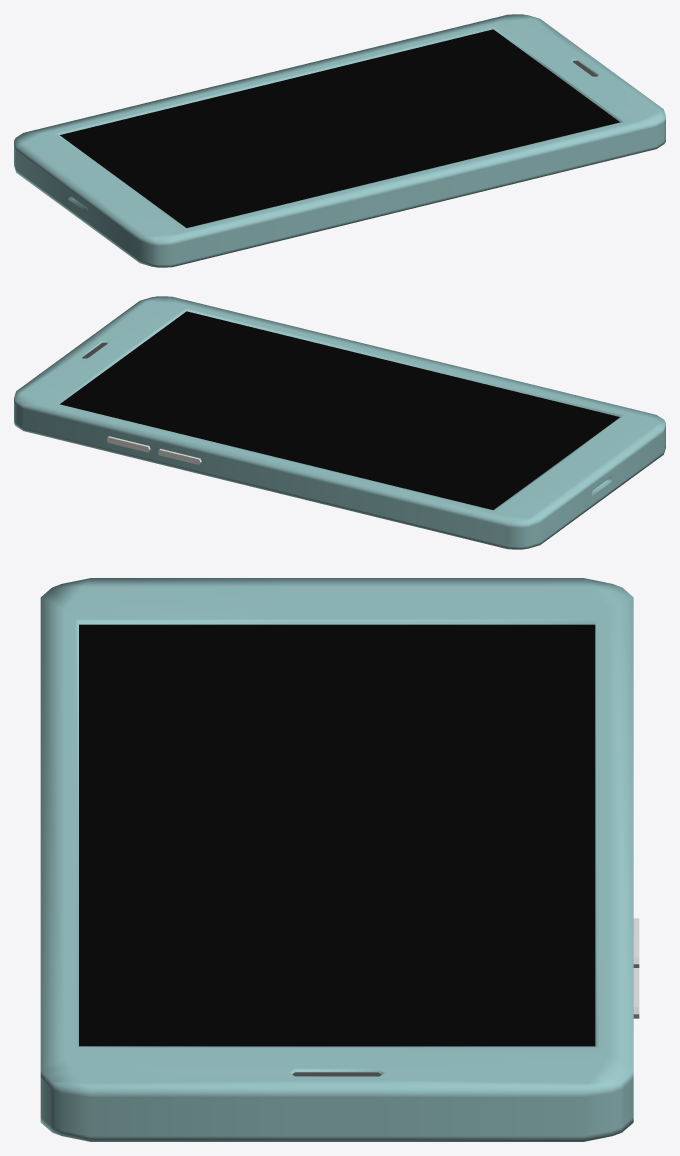
The model's file is Smartphone.fbx.
The picture shows the model from 3 angles, top to bottom: view 1: azimuth 30°, elevation 25°; view 2: azimuth 150°, elevation 25°; view 3: azimuth 270°, elevation 25°; orthographic projection. The views are drawn at different scales.
Visible parts, largest first — view 1: Screen, Frame; view 2: Screen, Frame; view 3: Screen, Frame.
Part boxes in pixels (x1,y1,x2,y2): Screen: (60,29,619,227); Frame: (14,14,665,267); Screen: (60,311,619,509); Frame: (14,296,665,549); Screen: (44,624,595,1077); Frame: (40,578,633,1141).
Bounding box in the file's own units: 14.7 × 0.7185 × 7.27.
